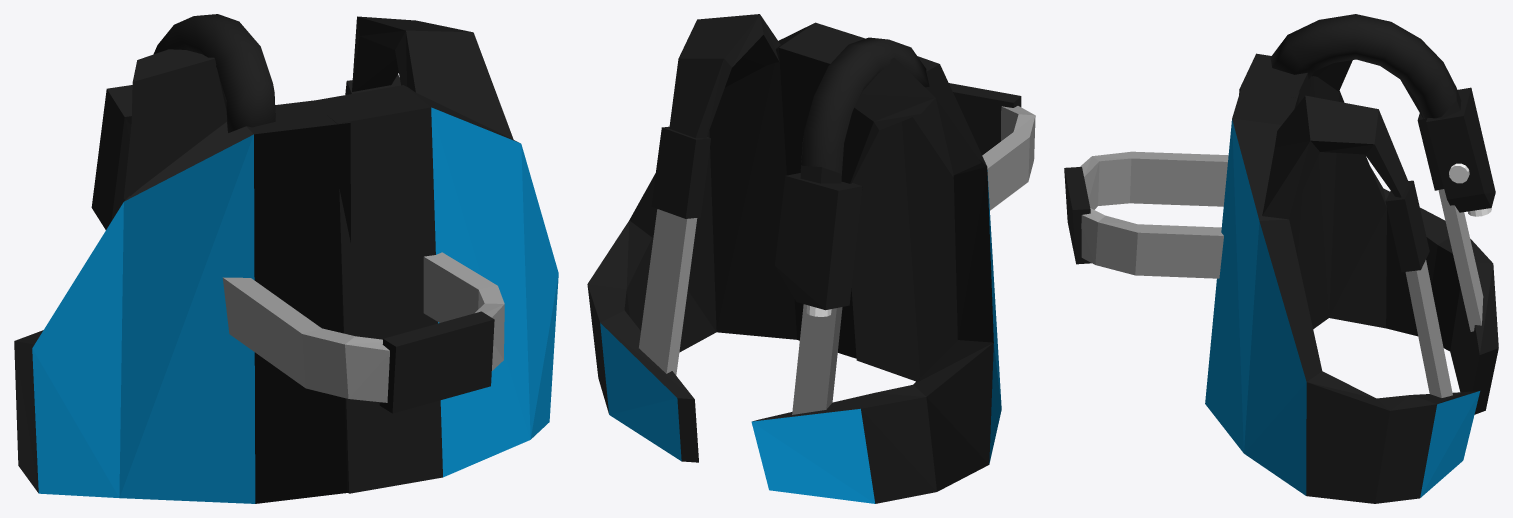
The model's file is bcd.fbx.
3 renders of one model, left to right at view 1: azimuth 30°, elevation 25°; view 2: azimuth 150°, elevation 25°; view 3: azimuth 270°, elevation 25°, orthographic. The views are drawn at different scales.
Visible parts, largest first — view 1: bcd; view 2: bcd; view 3: bcd.
Boxes of the visible parts, box(x1,y1,x2,y2) form: bcd: box(14, 14, 558, 503); bcd: box(587, 14, 1035, 503); bcd: box(1064, 14, 1498, 503).
Size of the model in its own units: 73.55 by 71.34 by 71.82.
